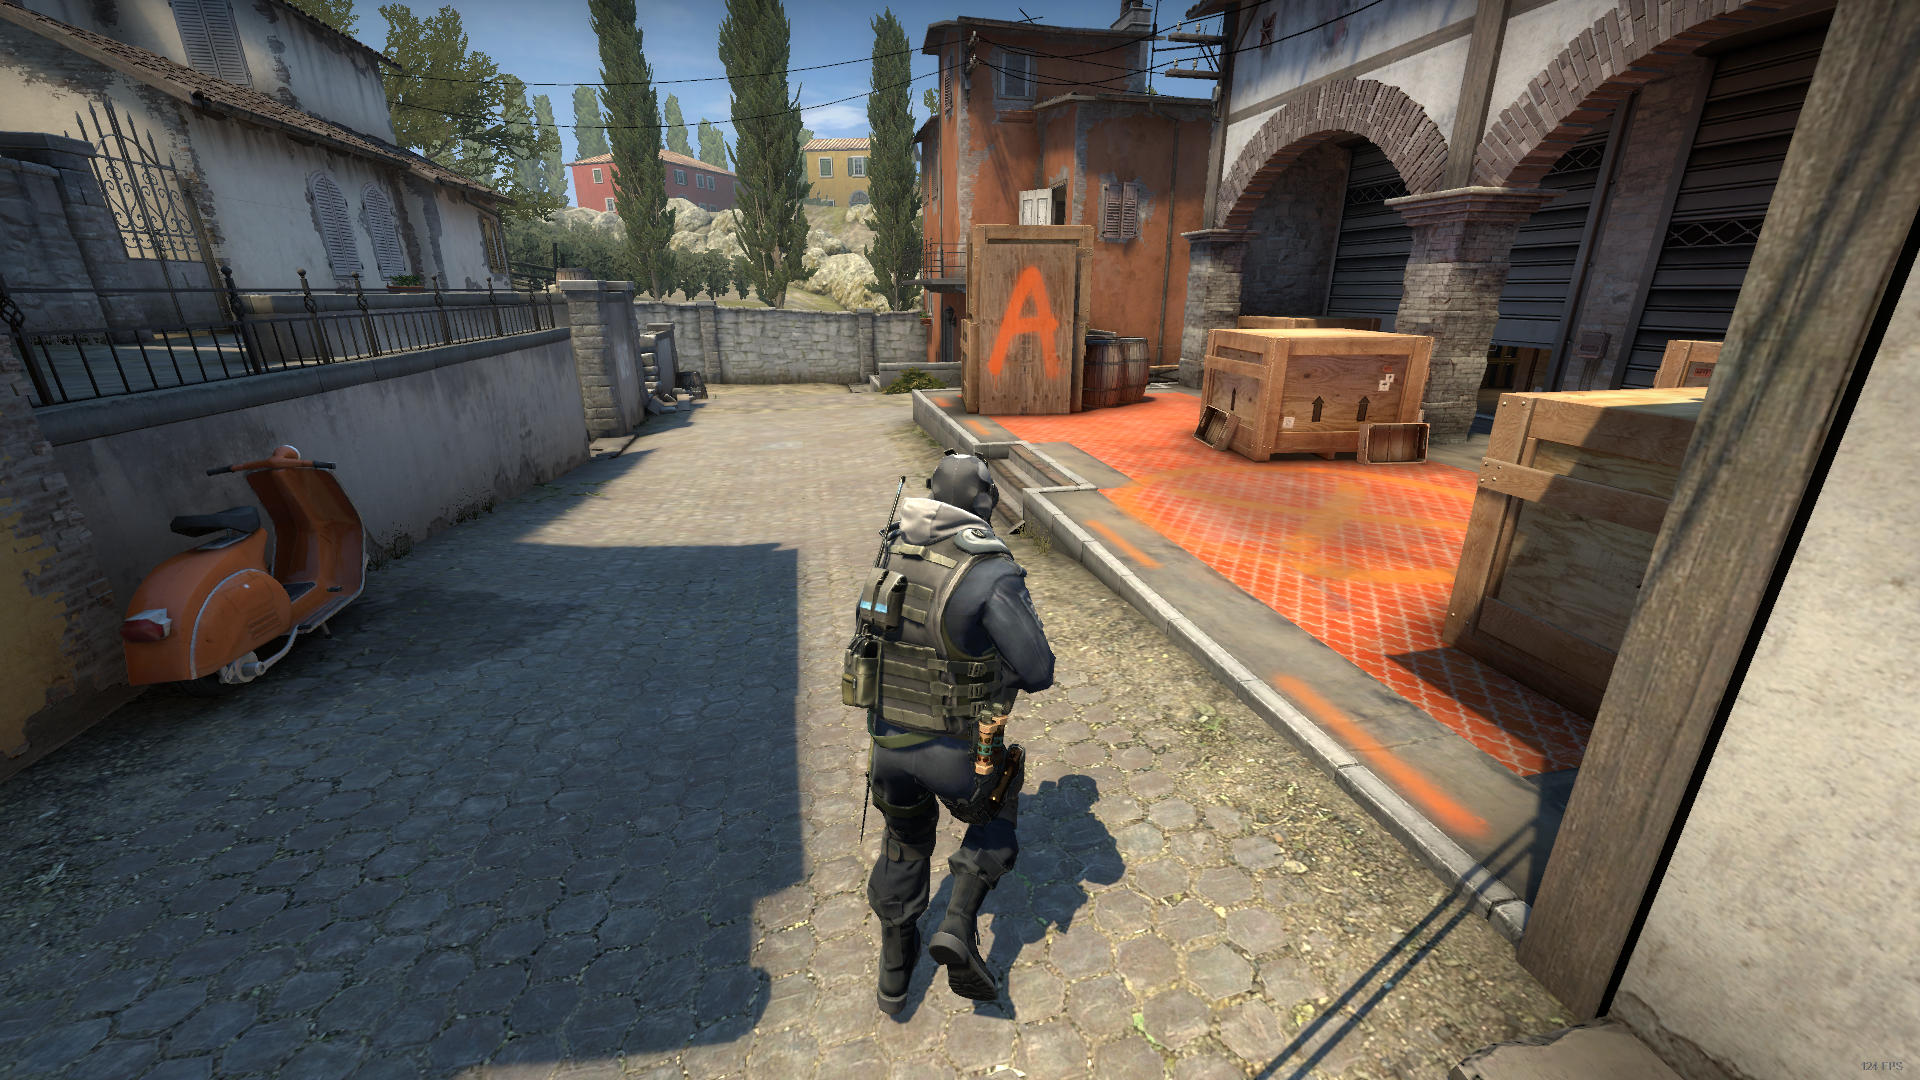ct: (843, 448, 1067, 1038)
